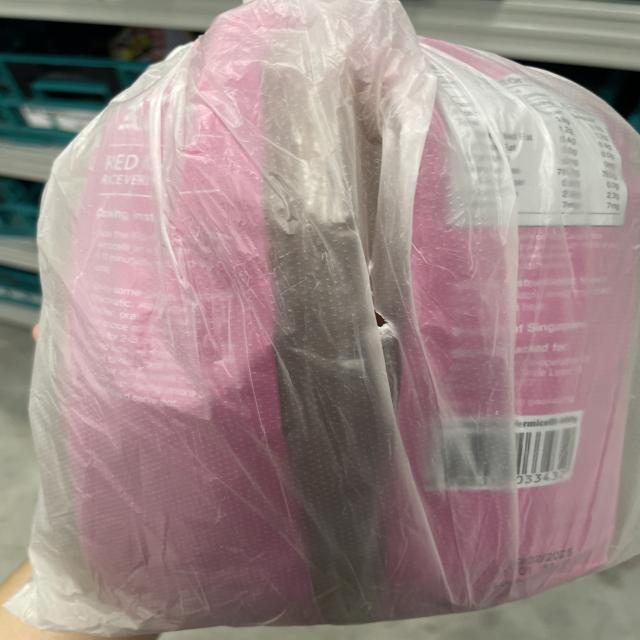object_name: (112, 56, 616, 599)
